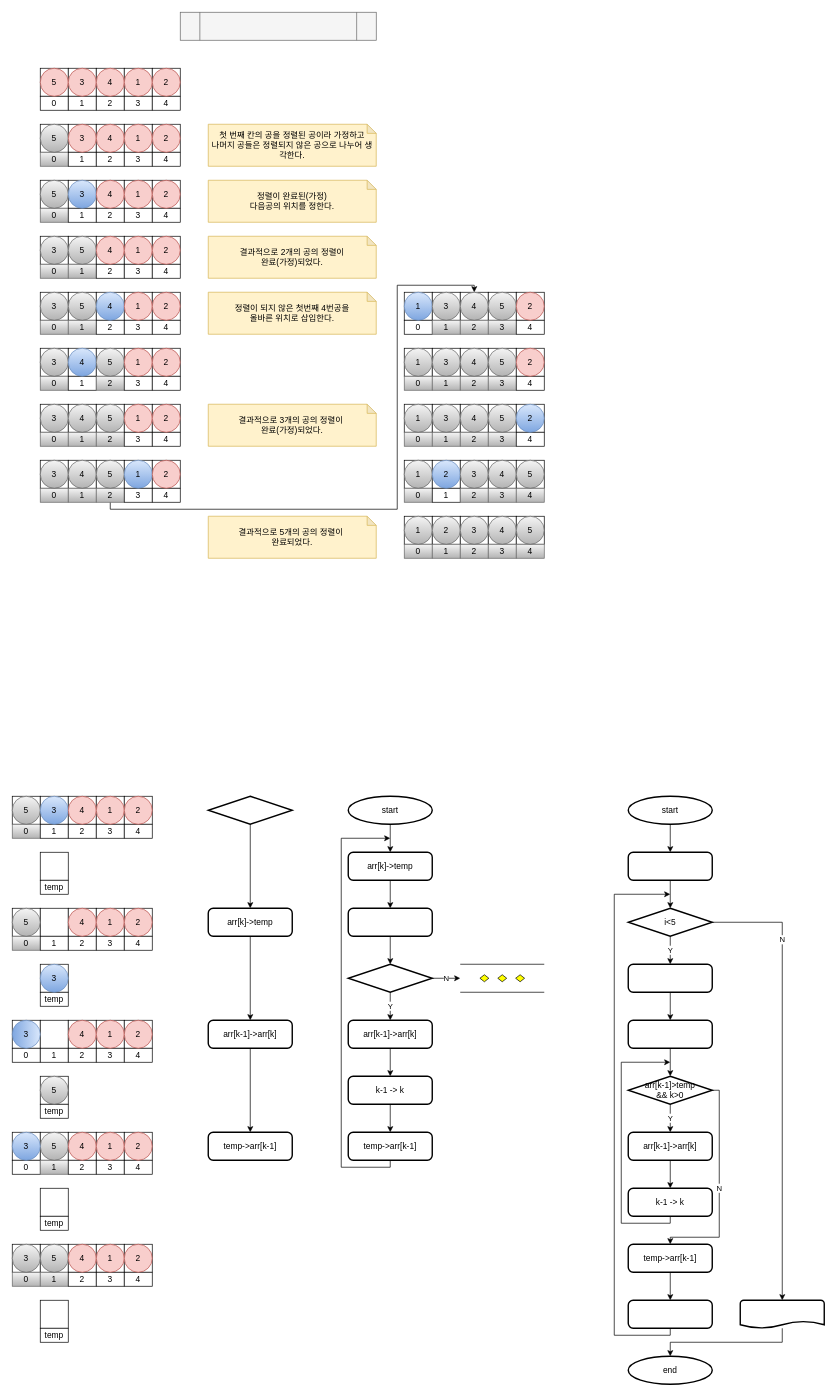
Some shapes in this 837 by 1397 pixel diagram are drawn without their labels. The shapes that lost their labels are listed below. From the top down, each one's centre as x and y in pixels, then its label:
(x=278, y=26): Insertion Sort
(x=250, y=810): arr[k-1]>arr[k]
(x=670, y=866): 1 -> i
(x=390, y=922): 1 -> k
(x=390, y=978): arr[k-1]>temp
(x=670, y=978): arr[i]->temp
(x=670, y=1034): i -> k
(x=670, y=1314): i += 1
(x=782, y=1314): arr
